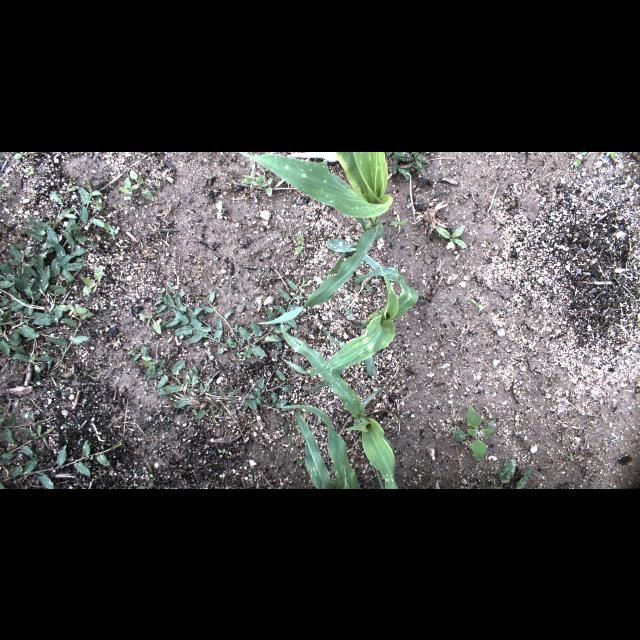crop: (238, 152, 392, 324), (281, 232, 417, 390), (280, 324, 398, 488), (280, 404, 360, 488), (376, 466, 384, 488)
weed: (0, 175, 106, 357), (127, 344, 306, 434), (153, 276, 309, 360), (0, 440, 124, 488), (12, 306, 94, 370), (451, 405, 495, 463), (0, 424, 56, 464), (1, 409, 54, 441), (486, 459, 532, 488), (386, 151, 428, 181), (437, 224, 468, 250), (130, 168, 154, 200), (80, 265, 104, 295), (137, 312, 161, 334), (56, 302, 88, 316), (244, 163, 258, 193), (256, 173, 274, 195), (568, 152, 588, 170), (390, 213, 408, 233), (119, 176, 133, 198), (141, 354, 155, 376), (356, 273, 372, 291), (104, 222, 118, 240), (30, 353, 40, 373), (13, 151, 35, 159), (296, 232, 304, 254), (353, 274, 362, 290), (471, 298, 483, 308), (602, 152, 616, 160), (116, 250, 126, 260), (296, 456, 306, 466), (297, 410, 307, 420), (30, 380, 42, 386), (26, 166, 34, 174), (145, 470, 153, 478), (137, 484, 153, 488), (567, 451, 573, 461), (352, 363, 362, 369), (394, 408, 398, 418), (170, 398, 180, 402), (59, 384, 65, 390), (222, 448, 228, 454), (0, 184, 4, 190), (1, 482, 5, 488), (0, 408, 6, 412)
